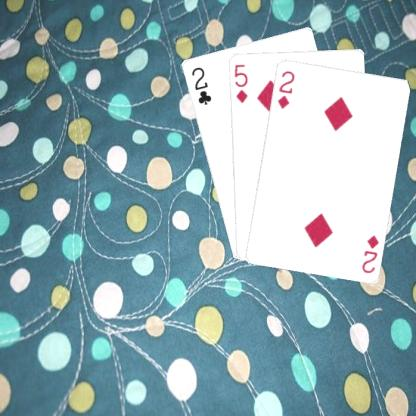2C: (188, 64, 213, 106)
2D: (274, 67, 296, 110), (358, 232, 379, 275)
5D: (231, 61, 249, 104)
